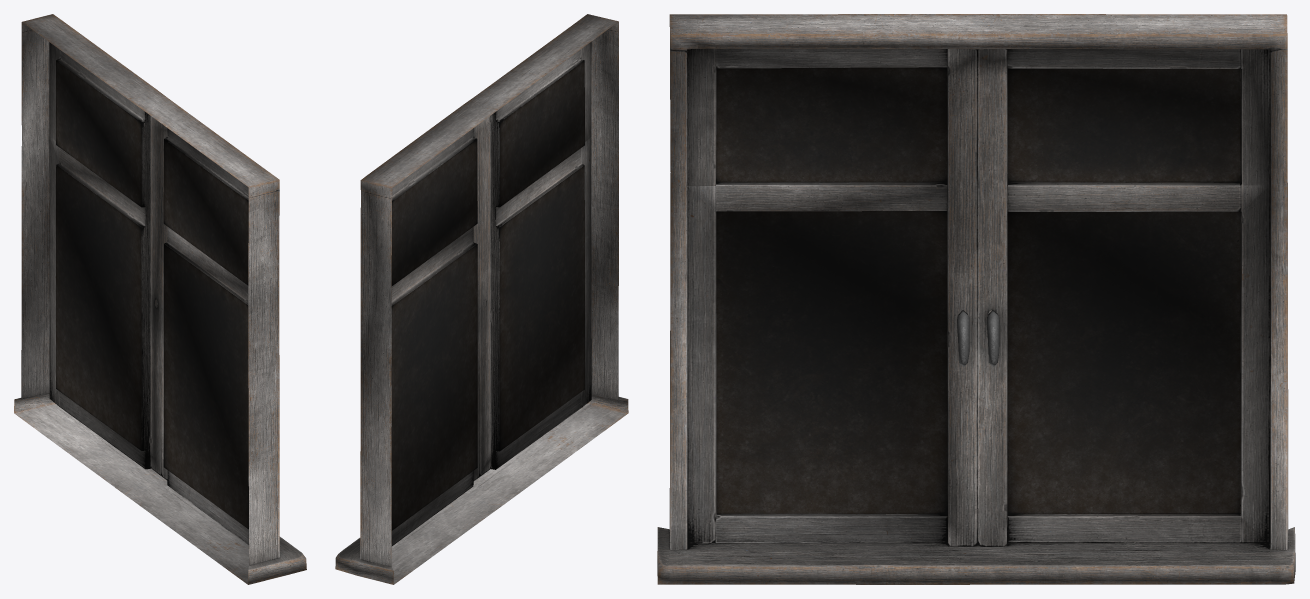
File: wooden_window.glb
3 views of the same model, side by side, from view 1: azimuth 30°, elevation 25°; view 2: azimuth 150°, elevation 25°; view 3: azimuth 270°, elevation 25° (orthographic). The views are drawn at different scales.
Visible parts, largest first — view 1: Object_2; view 2: Object_2; view 3: Object_2.
Part boxes in pixels (box(x1,y1,x2,y2)): Object_2: box(14, 14, 306, 584); Object_2: box(335, 14, 628, 584); Object_2: box(657, 14, 1295, 584).
Size of the model in its own units: 7.19 by 45.46 by 49.08.
1 material, 1 textured.
